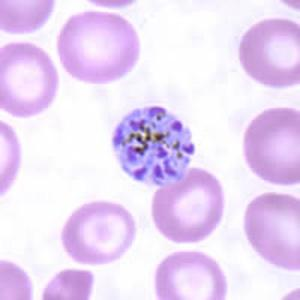Infected: (111, 104, 196, 186)
Uninfected: (152, 167, 226, 243), (61, 12, 140, 83), (63, 202, 136, 267), (0, 41, 59, 117), (237, 18, 300, 89), (243, 193, 300, 270), (244, 106, 300, 184), (155, 250, 226, 300)
